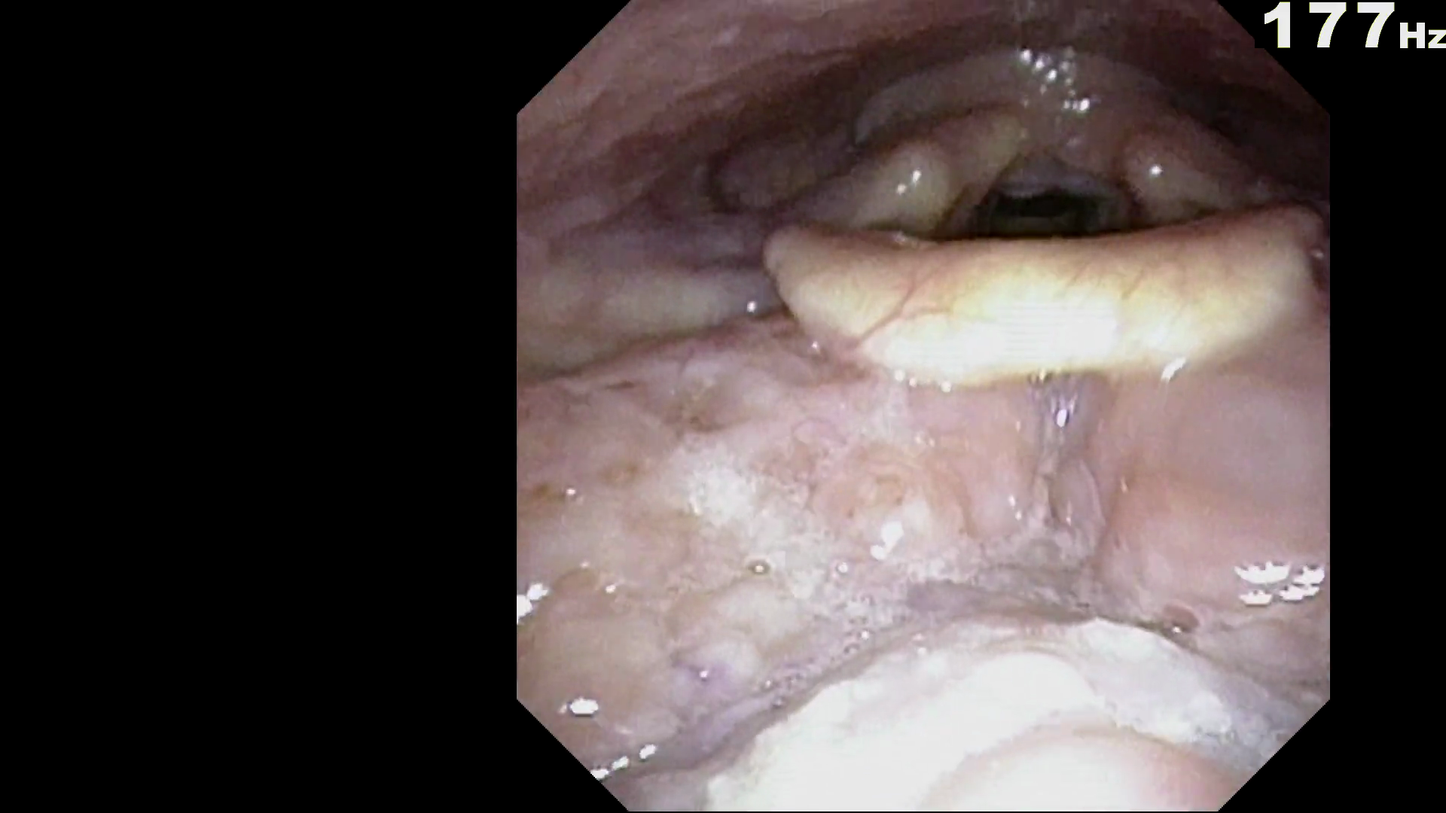epiglottis: (736, 153, 1307, 437)
trachea: (973, 134, 1120, 289)
